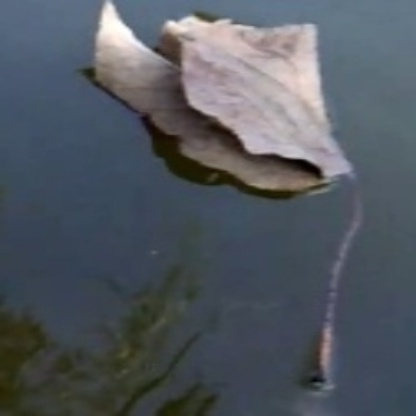leaf: (98, 5, 371, 191)
